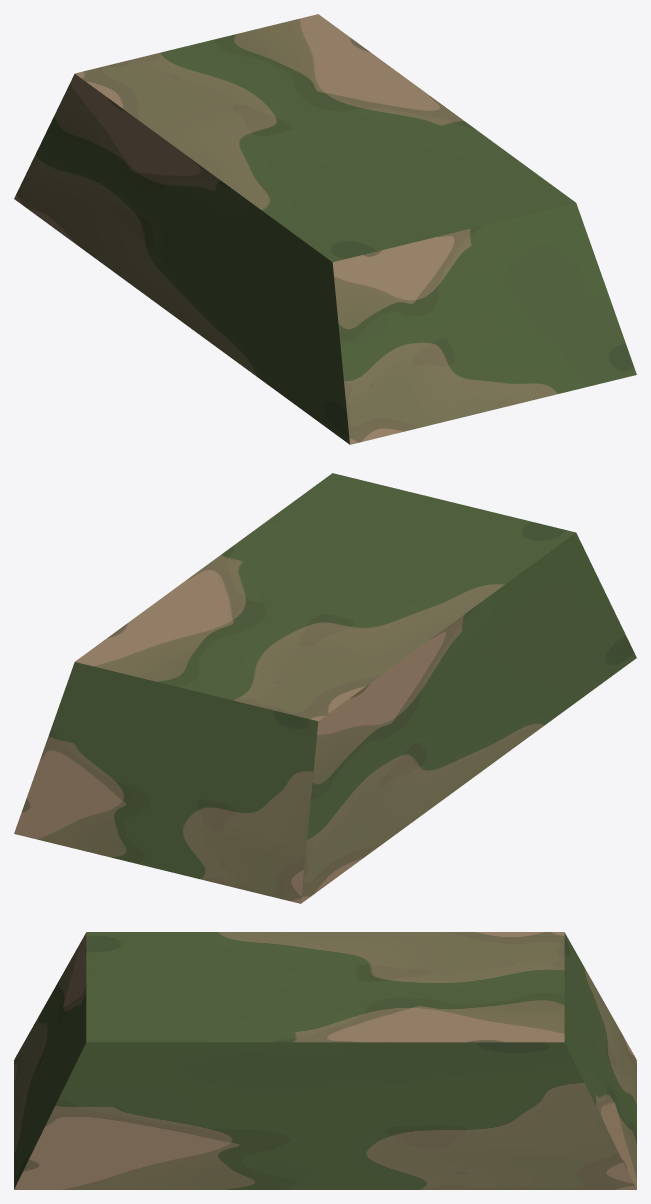
File: tank.glb
The picture shows the model from 3 angles, top to bottom: view 1: azimuth 30°, elevation 25°; view 2: azimuth 150°, elevation 25°; view 3: azimuth 270°, elevation 25°; orthographic projection. The views are drawn at different scales.
Visible parts, largest first — view 1: 车体; view 2: 车体; view 3: 车体.
Part boxes in pixels (x1,y1,x2,y2): 车体: [14, 14, 636, 444]; 车体: [14, 473, 636, 903]; 车体: [14, 932, 636, 1189].
Bounding box in the file's own units: 2.12 × 1.05 × 4.3.
1 material, 1 textured.
